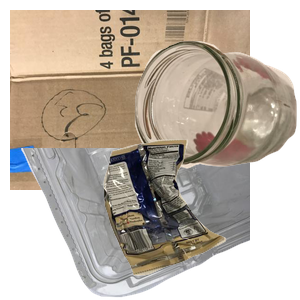cardboard: (10, 10, 250, 190)
glass: (132, 38, 300, 199)
plastic: (19, 148, 259, 300)
trash: (101, 137, 300, 300)
